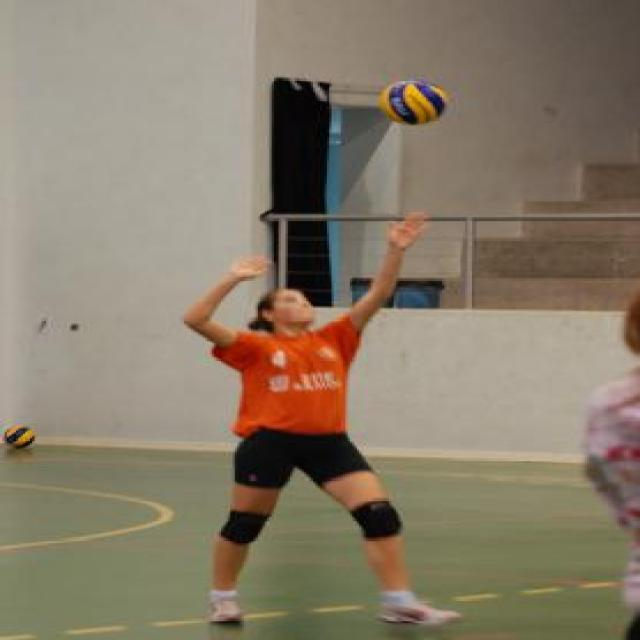volleyball: (378, 79, 450, 126), (4, 423, 37, 450)
